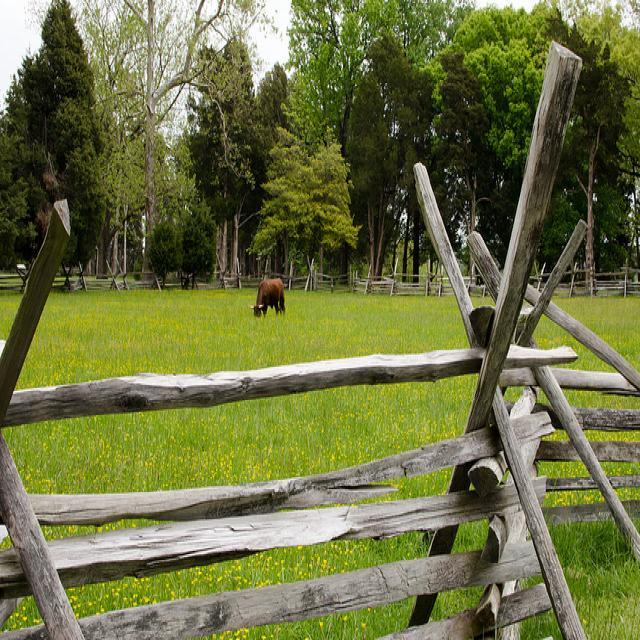cow: (246, 276, 284, 317)
